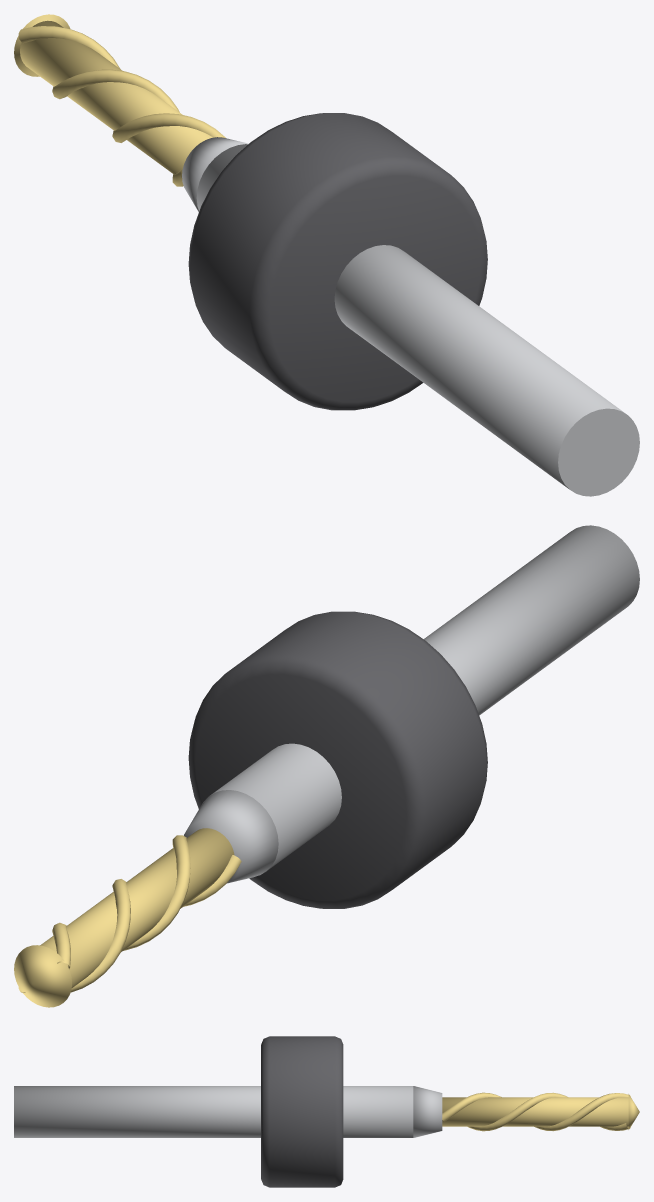
The model's file is drill18_2p3.glb.
The picture shows the model from 3 angles, top to bottom: view 1: azimuth 30°, elevation 25°; view 2: azimuth 150°, elevation 25°; view 3: azimuth 270°, elevation 25°; orthographic projection. The views are drawn at different scales.
Parts seen in each view (by area): view 1: Cylinder.002, Cylinder.001, Cylinder, flute, flute.001, Cone; view 2: Cylinder.002, Cylinder.001, Cylinder, Cone, Cone.001, flute.001, flute; view 3: Cylinder.001, Cylinder.002, Cylinder, Cone, flute, flute.001, Cone.001.
Part boxes in pixels (x1,y1,x2,y2): Cylinder.002: (188, 113, 487, 410); Cylinder.001: (196, 144, 639, 496); Cylinder: (20, 20, 212, 177); flute: (18, 26, 225, 142); flute.001: (52, 69, 183, 186); Cone: (182, 137, 248, 211); Cylinder.002: (188, 611, 487, 908); Cylinder.001: (210, 525, 639, 870); Cylinder: (40, 828, 234, 987); Cone: (184, 790, 278, 883); Cone.001: (14, 945, 71, 1007); flute.001: (18, 855, 241, 992); flute: (52, 835, 190, 968); Cylinder.001: (14, 1086, 413, 1137); Cylinder.002: (261, 1036, 343, 1187); Cylinder: (442, 1097, 628, 1126); Cone: (413, 1086, 442, 1137); flute: (442, 1092, 630, 1131); flute.001: (467, 1092, 630, 1131); Cone.001: (628, 1094, 639, 1129).
Bounding box in the file's own units: 0.00917 × 0.00917 × 0.038.
